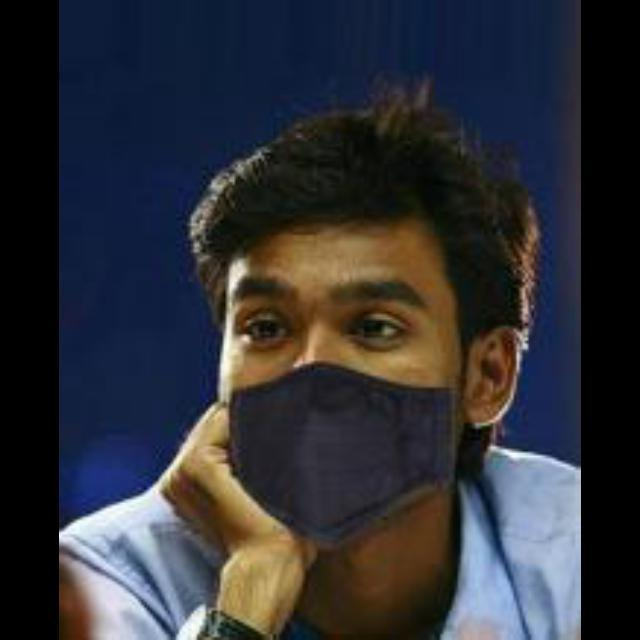suspicion: (201, 132, 559, 536)
